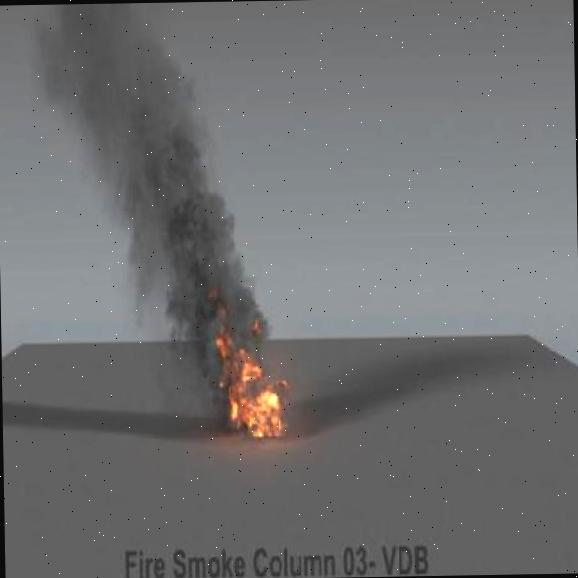smoke: (20, 0, 270, 427)
